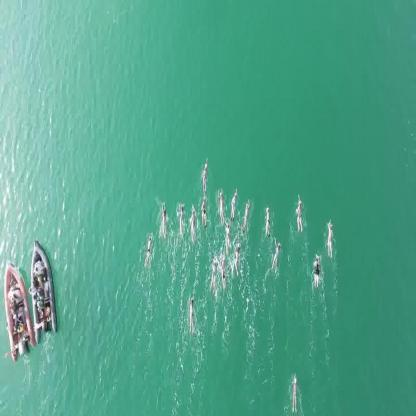Boat: (2, 261, 33, 357), (29, 240, 59, 335)
